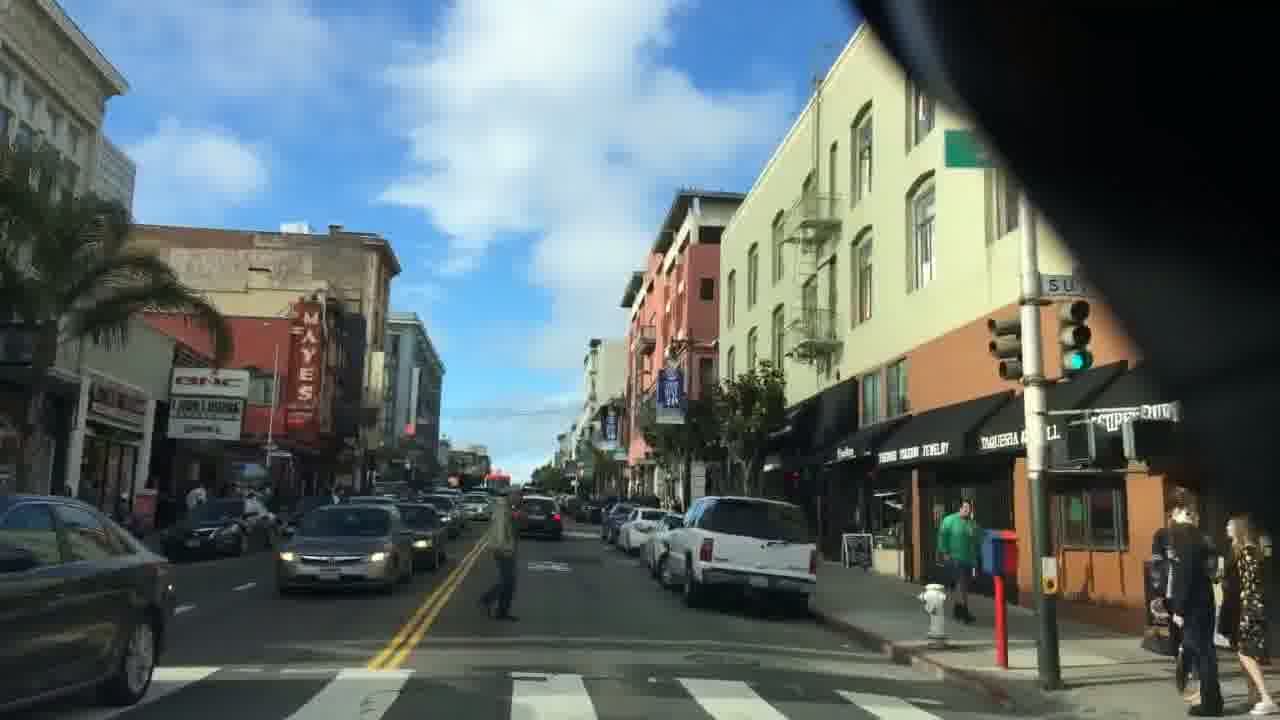car: (0, 490, 177, 720), (654, 494, 818, 613), (273, 501, 415, 597), (160, 493, 274, 562), (396, 501, 448, 570), (640, 510, 685, 571), (615, 507, 667, 555), (511, 493, 562, 540), (457, 491, 492, 521)
pedestrian: (1162, 498, 1225, 717), (1216, 511, 1280, 717), (474, 483, 523, 623), (932, 497, 981, 625)
